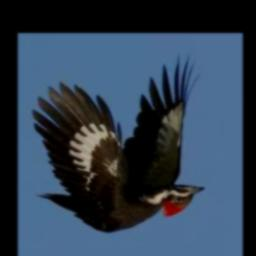Woodpecker: (33, 52, 204, 233)
